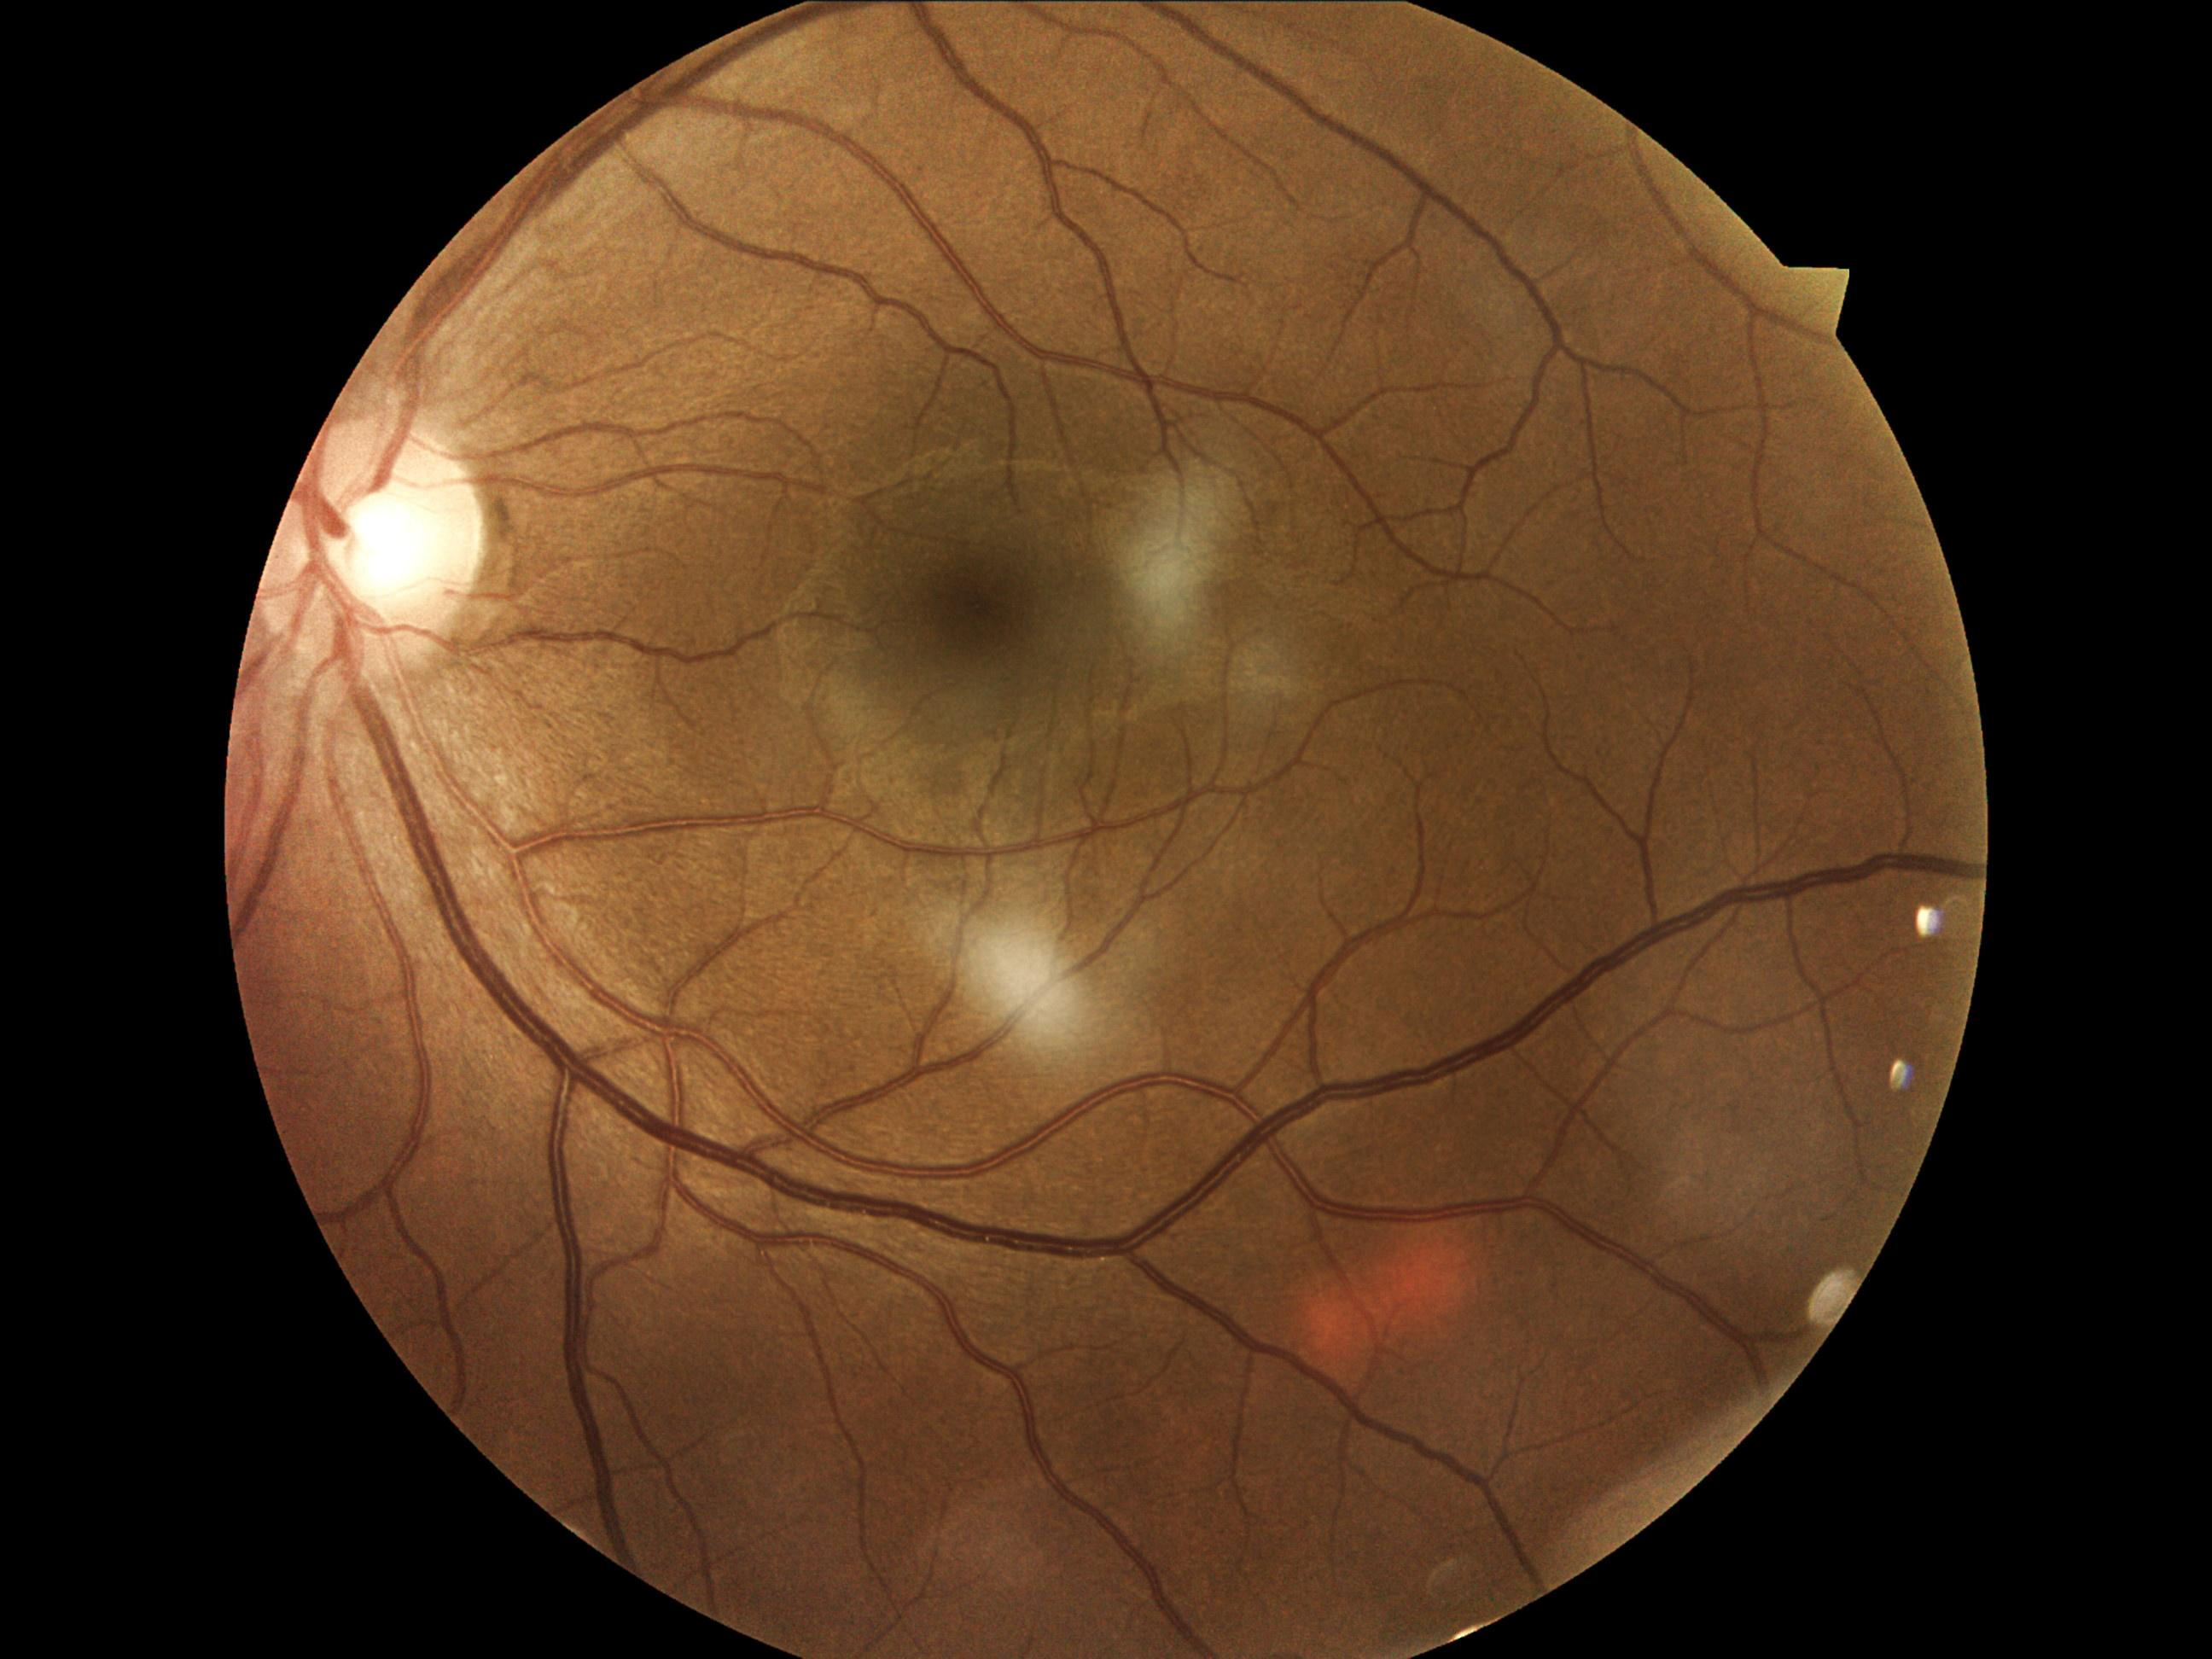Optic-nerve: (258, 408, 498, 674)
macula: (725, 432, 1244, 842)
notch: (1791, 260, 1858, 331)
